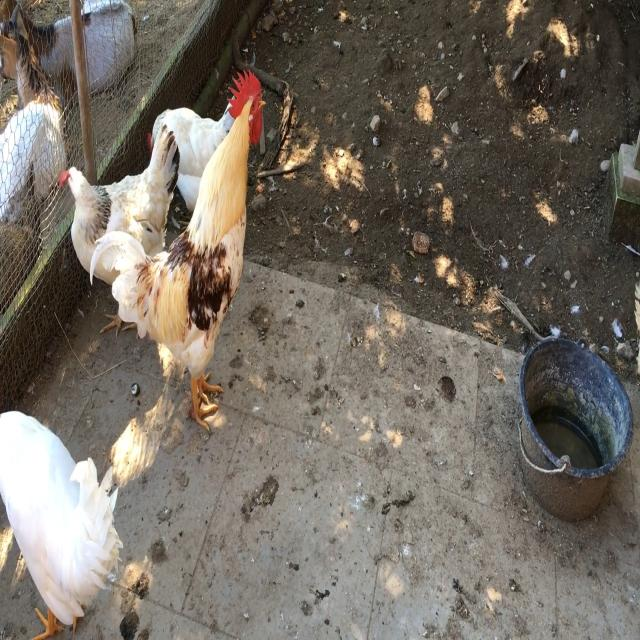chicken: (88, 79, 282, 442)
